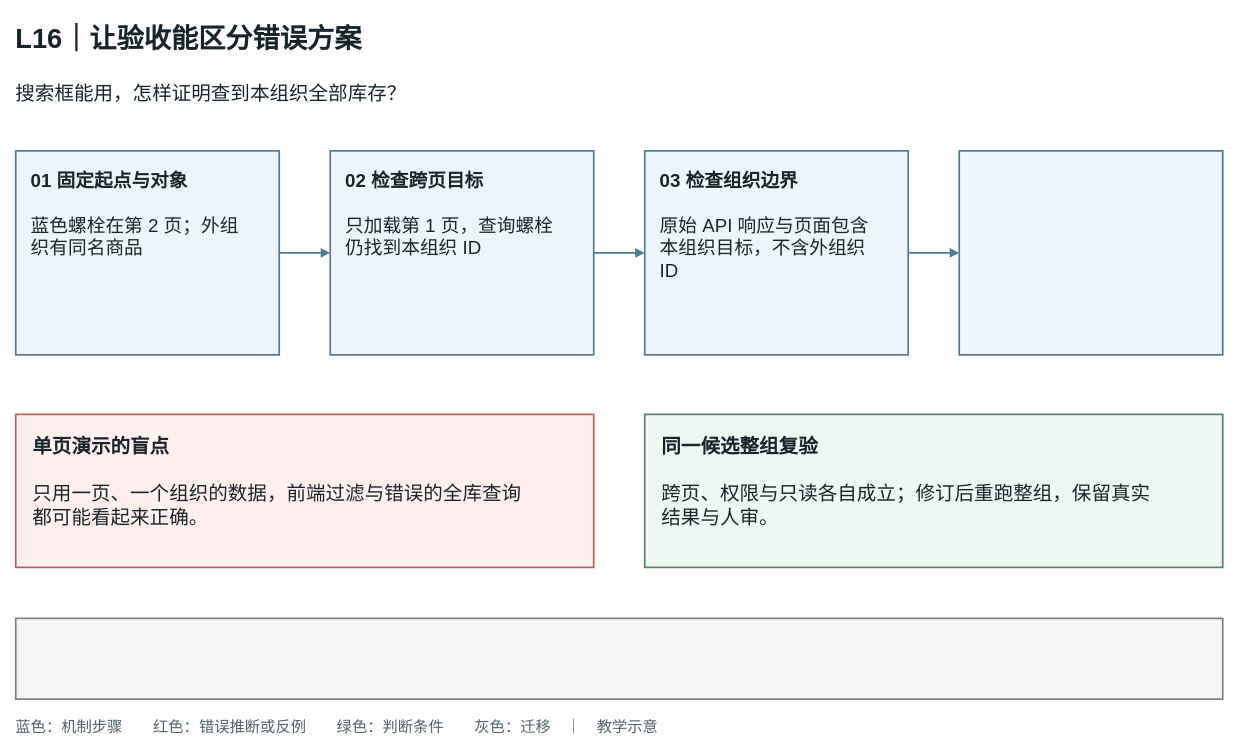
This 1238x756 diagram has some shape labels left out. Each missing label, with the centre of its shape:
"04 核对只读状态 查询前后库存、预占和账本 都不变" goes at (x=1090, y=252).
"迁移到销售订单 沿用检查布置方法，重新确定订单 ID、筛选与状态合同。" goes at (x=618, y=658).
